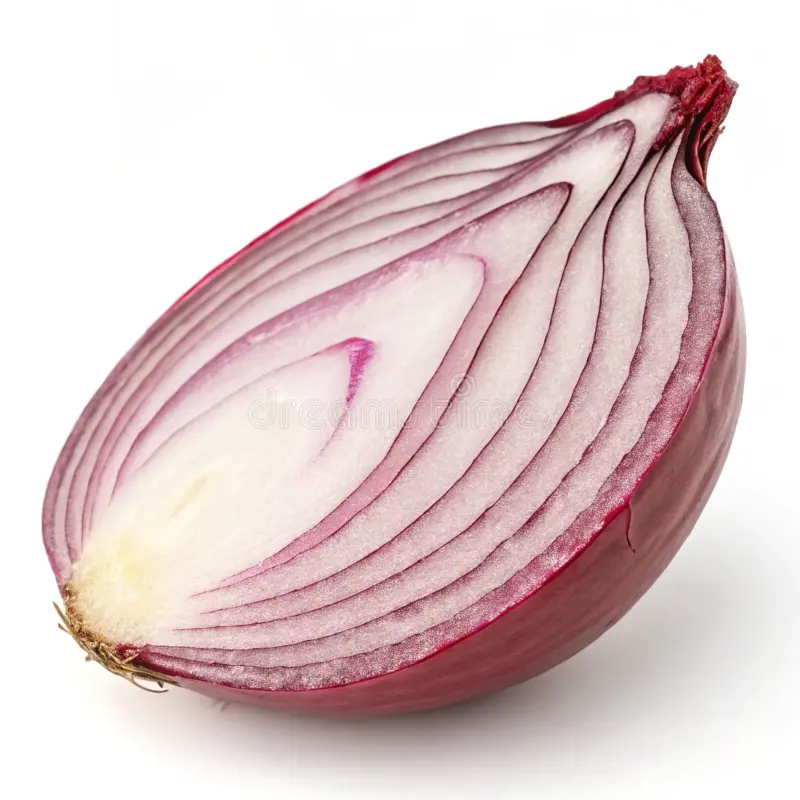onion: (43, 47, 758, 724)
